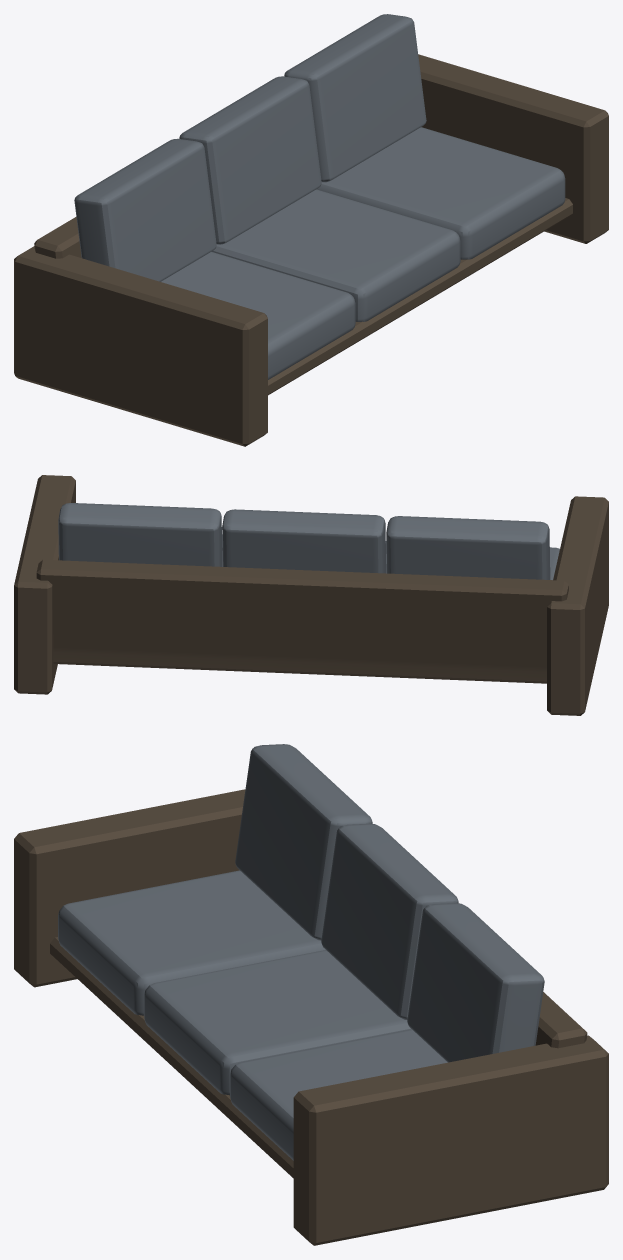
File: TEMP_Bench.fbx
3 renders of one model, top to bottom at view 1: azimuth 30°, elevation 25°; view 2: azimuth 150°, elevation 25°; view 3: azimuth 270°, elevation 25°, orthographic. The views are drawn at different scales.
Parts seen in each view (by area): view 1: Bench; view 2: Bench; view 3: Bench.
Part boxes in pixels (<box>): Bench: <box>14,14,608,446</box>; Bench: <box>14,475,608,715</box>; Bench: <box>14,744,608,1245</box>.
Size of the model in its own units: 19.92 by 5.77 by 15.05.
